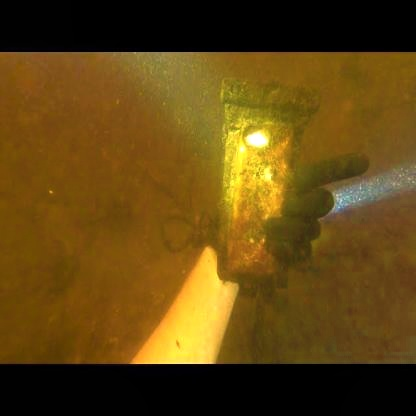cellphone: (226, 116, 294, 282)
